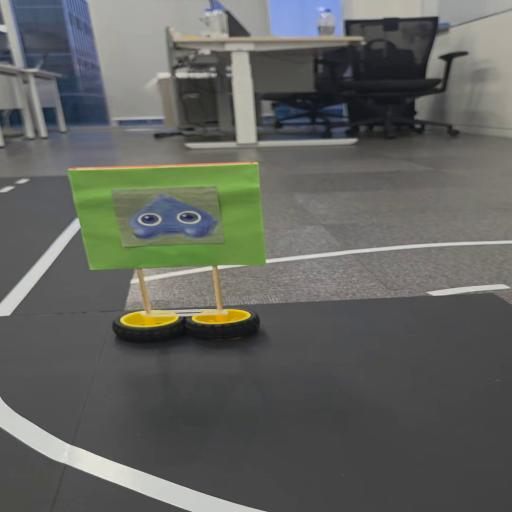Sign_B: (48, 156, 309, 358)
